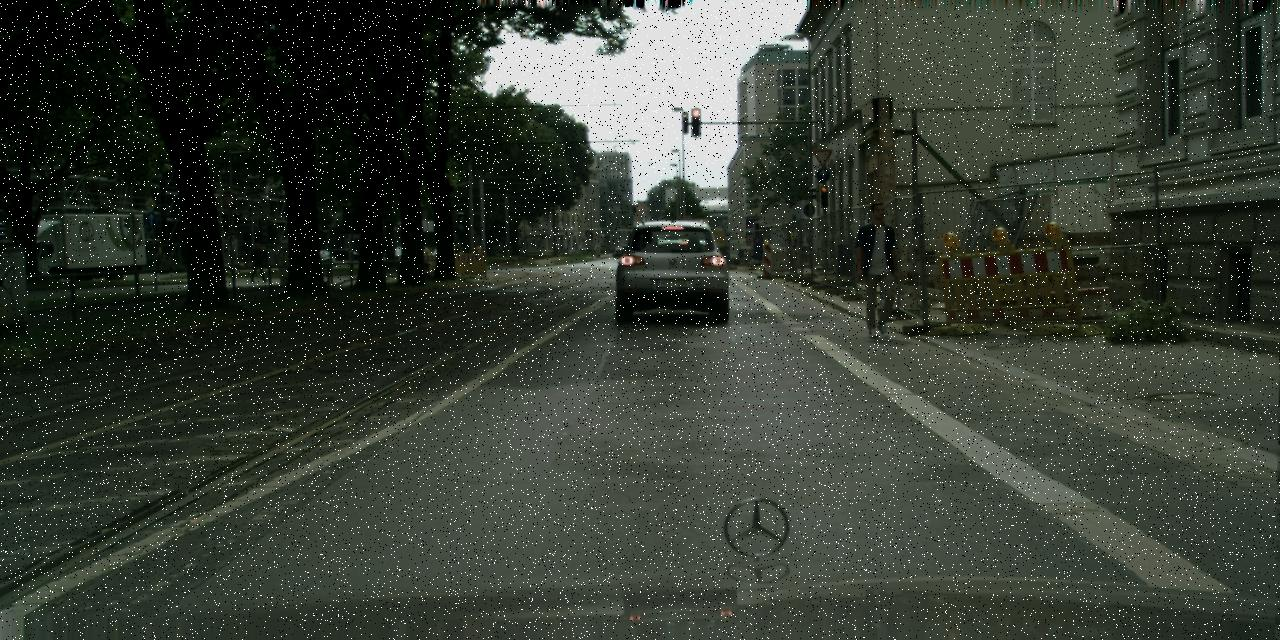ped: (850, 202, 904, 334), (249, 242, 265, 282)
